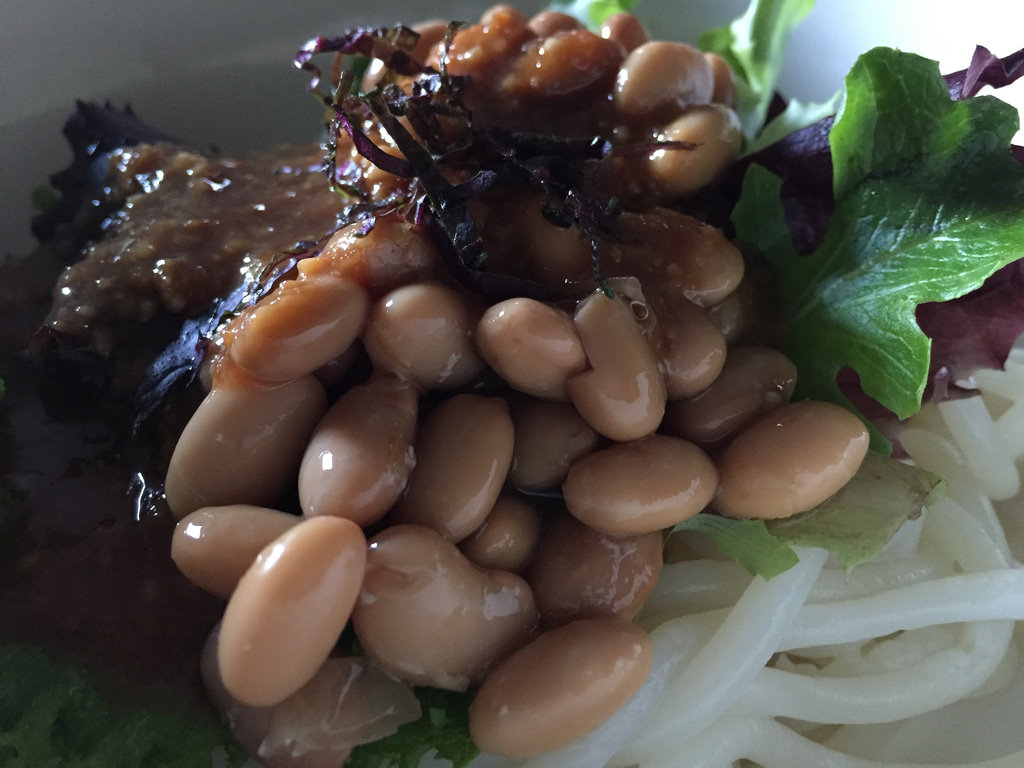boiled peas: (263, 297, 547, 607)
